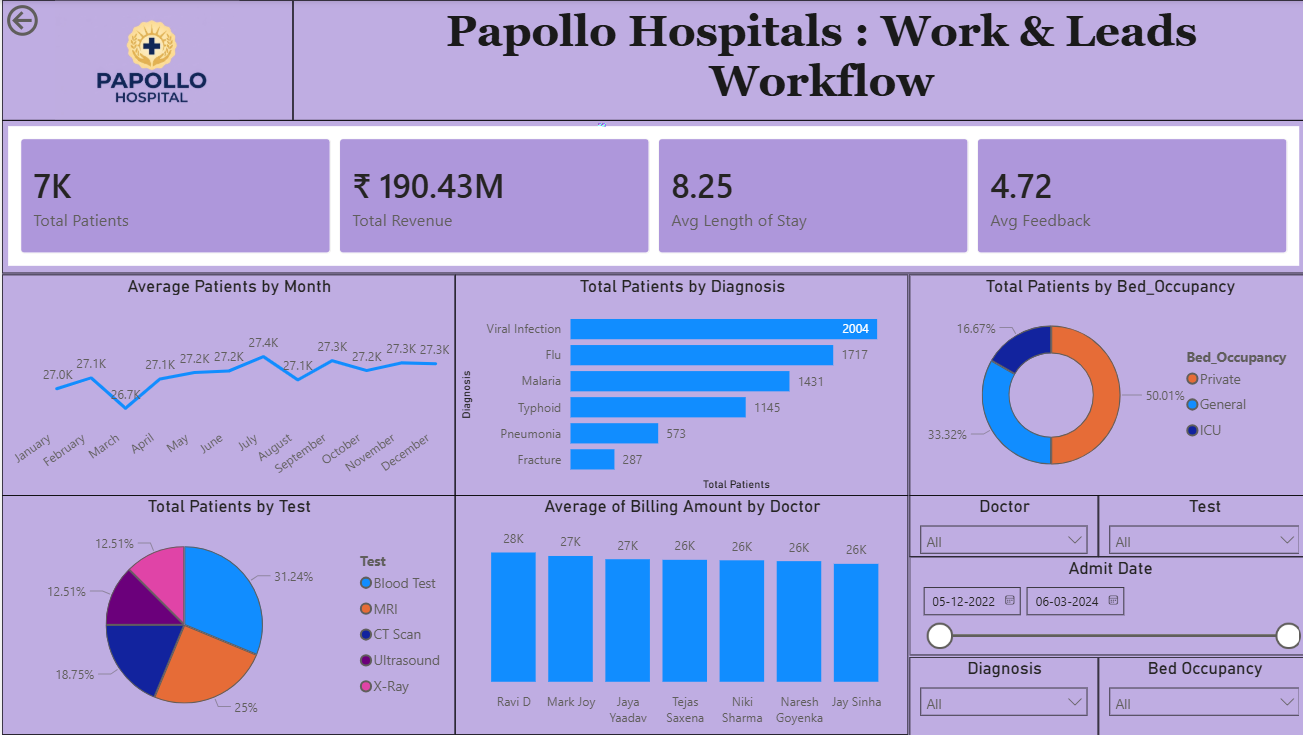

What the dashboard file says about the page in this screenshot:
{"tool":"powerbi","page":{"name":"Page 1","canvas":[1280,720],"ordinal":0},"visuals":[{"type":"textbox","box":[284.7,0,994.8,118.1],"z":0},{"type":"cardVisual","fields":{"Data":["Sheet1.Total Patients","Sheet1.Total Revenue","Sheet1.Avg Length of Stay","Sheet1.Avg Feedback"]},"box":[0,118.1,1279.5,149.9],"z":1000},{"type":"image","box":[0,0,284.7,118.1],"z":2000},{"type":"lineChart","title":"Average Patients by Month","fields":{"Category":["Sheet1.Admit_Date.Variation.Date Hierarchy.Month"],"Y":["Avg(Sheet1.Patient_ID)"]},"box":[0,268,443.7,216.5],"z":3000},{"type":"clusteredBarChart","fields":{"Category":["Sheet1.Diagnosis"],"Y":["Sheet1.Total Patients"]},"box":[443.7,268,443.7,216.5],"z":4000},{"type":"donutChart","fields":{"Category":["Sheet1.Bed_Occupancy"],"Y":["Sheet1.Total Patients"]},"box":[887.3,268,392.2,216.5],"z":5000},{"type":"pieChart","fields":{"Category":["Sheet1.Test"],"Y":["Sheet1.Total Patients"]},"box":[0,484.5,443.7,234.7],"z":6000},{"type":"actionButton","box":[0,0,100,40],"z":7000},{"type":"clusteredColumnChart","fields":{"Category":["Sheet1.Doctor"],"Y":["Avg(Sheet1.Billing Amount)"]},"box":[443.7,484.5,443.7,234.7],"z":8000},{"type":"slicer","title":"Doctor","fields":{"Values":["Sheet1.Doctor"]},"box":[887.3,484.5,184.7,60.6],"z":9000},{"type":"slicer","title":"Admit Date","fields":{"Values":["Sheet1.Admit_Date"]},"box":[887.3,545.1,392.2,96.9],"z":10000},{"type":"slicer","title":"Diagnosis","fields":{"Values":["Sheet1.Diagnosis"]},"box":[887.3,642,184.7,77.2],"z":11000},{"type":"slicer","title":"Bed Occupancy","fields":{"Values":["Sheet1.Bed_Occupancy"]},"box":[1072.1,642,207.4,77.2],"z":12000},{"type":"slicer","title":"Test","fields":{"Values":["Sheet1.Test"]},"box":[1072.1,484.5,207.4,60.6],"z":13000}]}

Visuals, with their boxes in screenshot pixels (x1, y1, x2, y2), scaled from the page's 1280x720 canvas onto the 1303x735 screenshot:
textbox: 290/0/1302/121
cardVisual - Sheet1.Total Patients x Sheet1.Total Revenue: 0/121/1302/274
image: 0/0/290/121
"Average Patients by Month" lineChart: 0/274/452/495
clusteredBarChart - Sheet1.Diagnosis x Sheet1.Total Patients: 452/274/903/495
donutChart - Sheet1.Bed_Occupancy x Sheet1.Total Patients: 903/274/1302/495
pieChart - Sheet1.Test x Sheet1.Total Patients: 0/495/452/734
actionButton: 0/0/102/41
clusteredColumnChart - Sheet1.Doctor x Avg(Sheet1.Billing Amount): 452/495/903/734
"Doctor" slicer: 903/495/1091/556
"Admit Date" slicer: 903/556/1302/655
"Diagnosis" slicer: 903/655/1091/734
"Bed Occupancy" slicer: 1091/655/1302/734
"Test" slicer: 1091/495/1302/556
